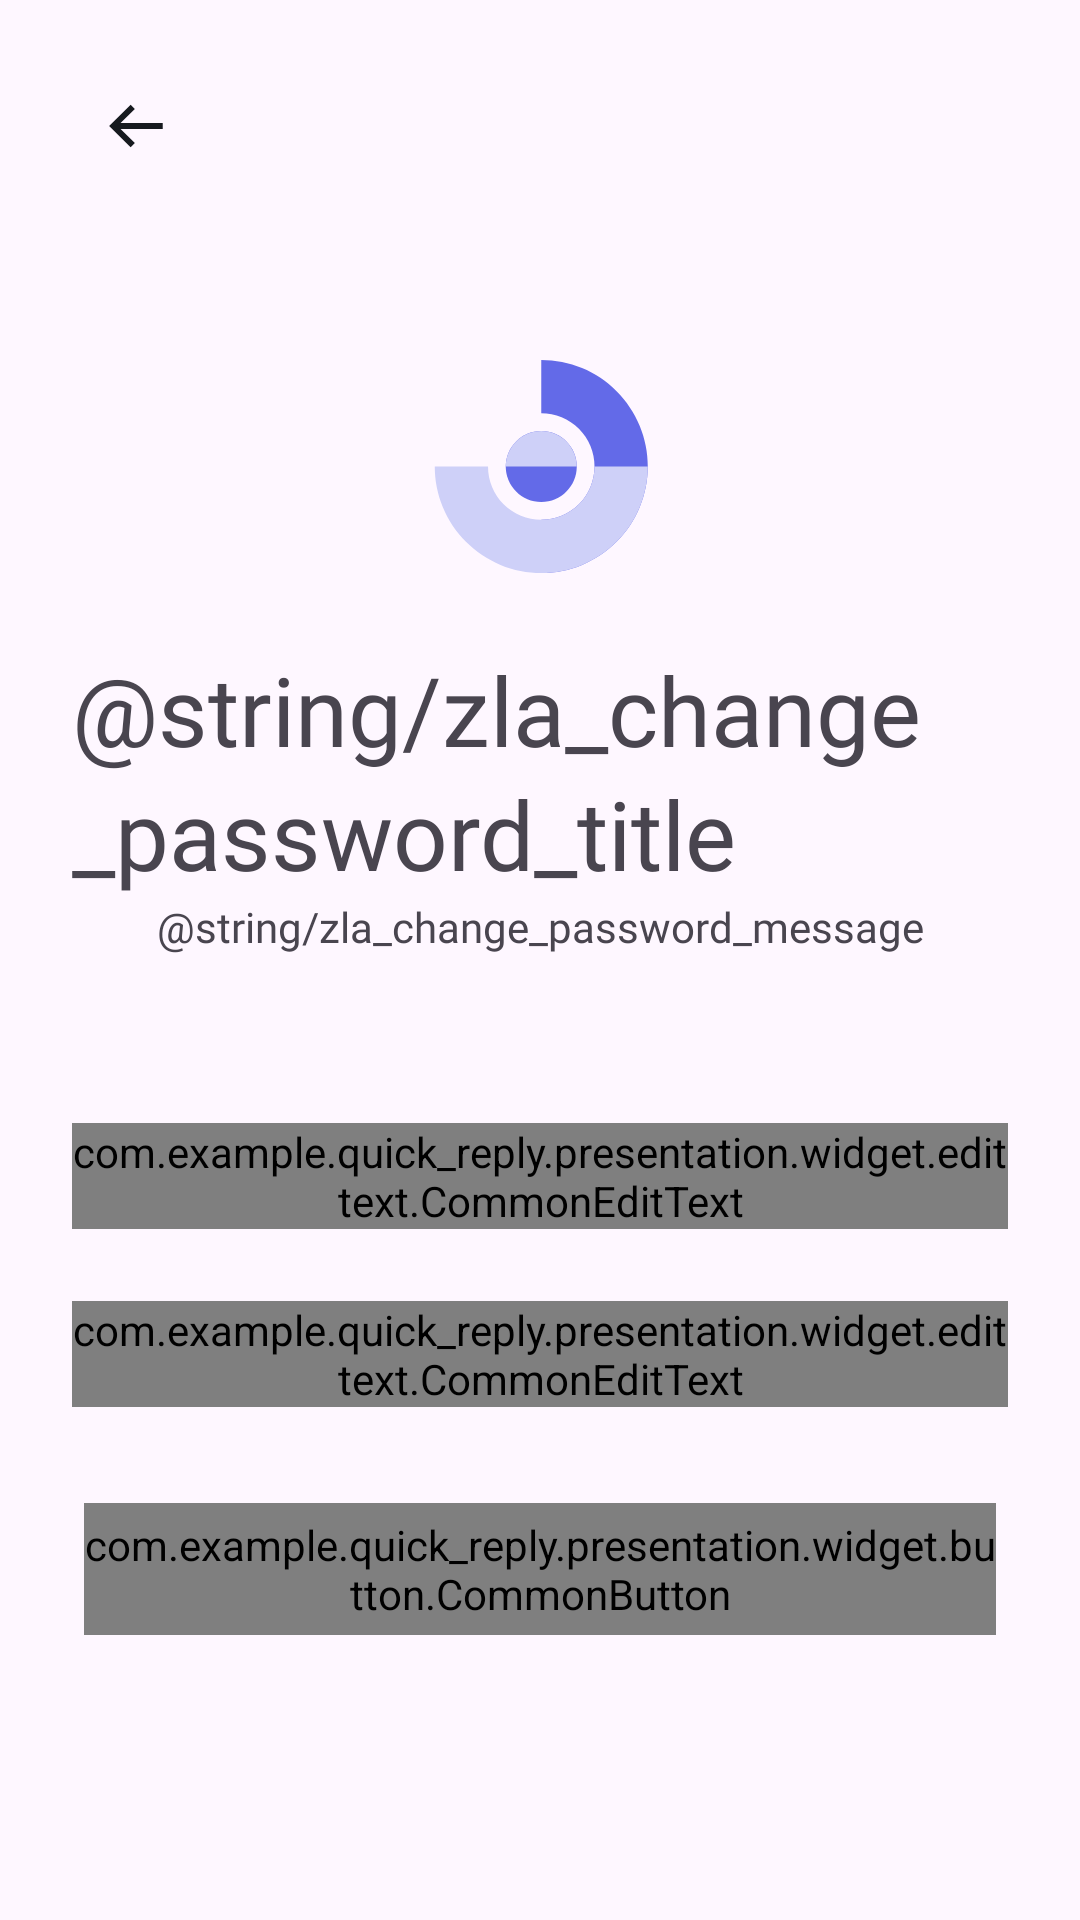

Icon bounding boxes for this 1080w x 1920h phone screenshot, format (x1,y1,x2,y2):
zla arrow left: (109,105,163,147)
